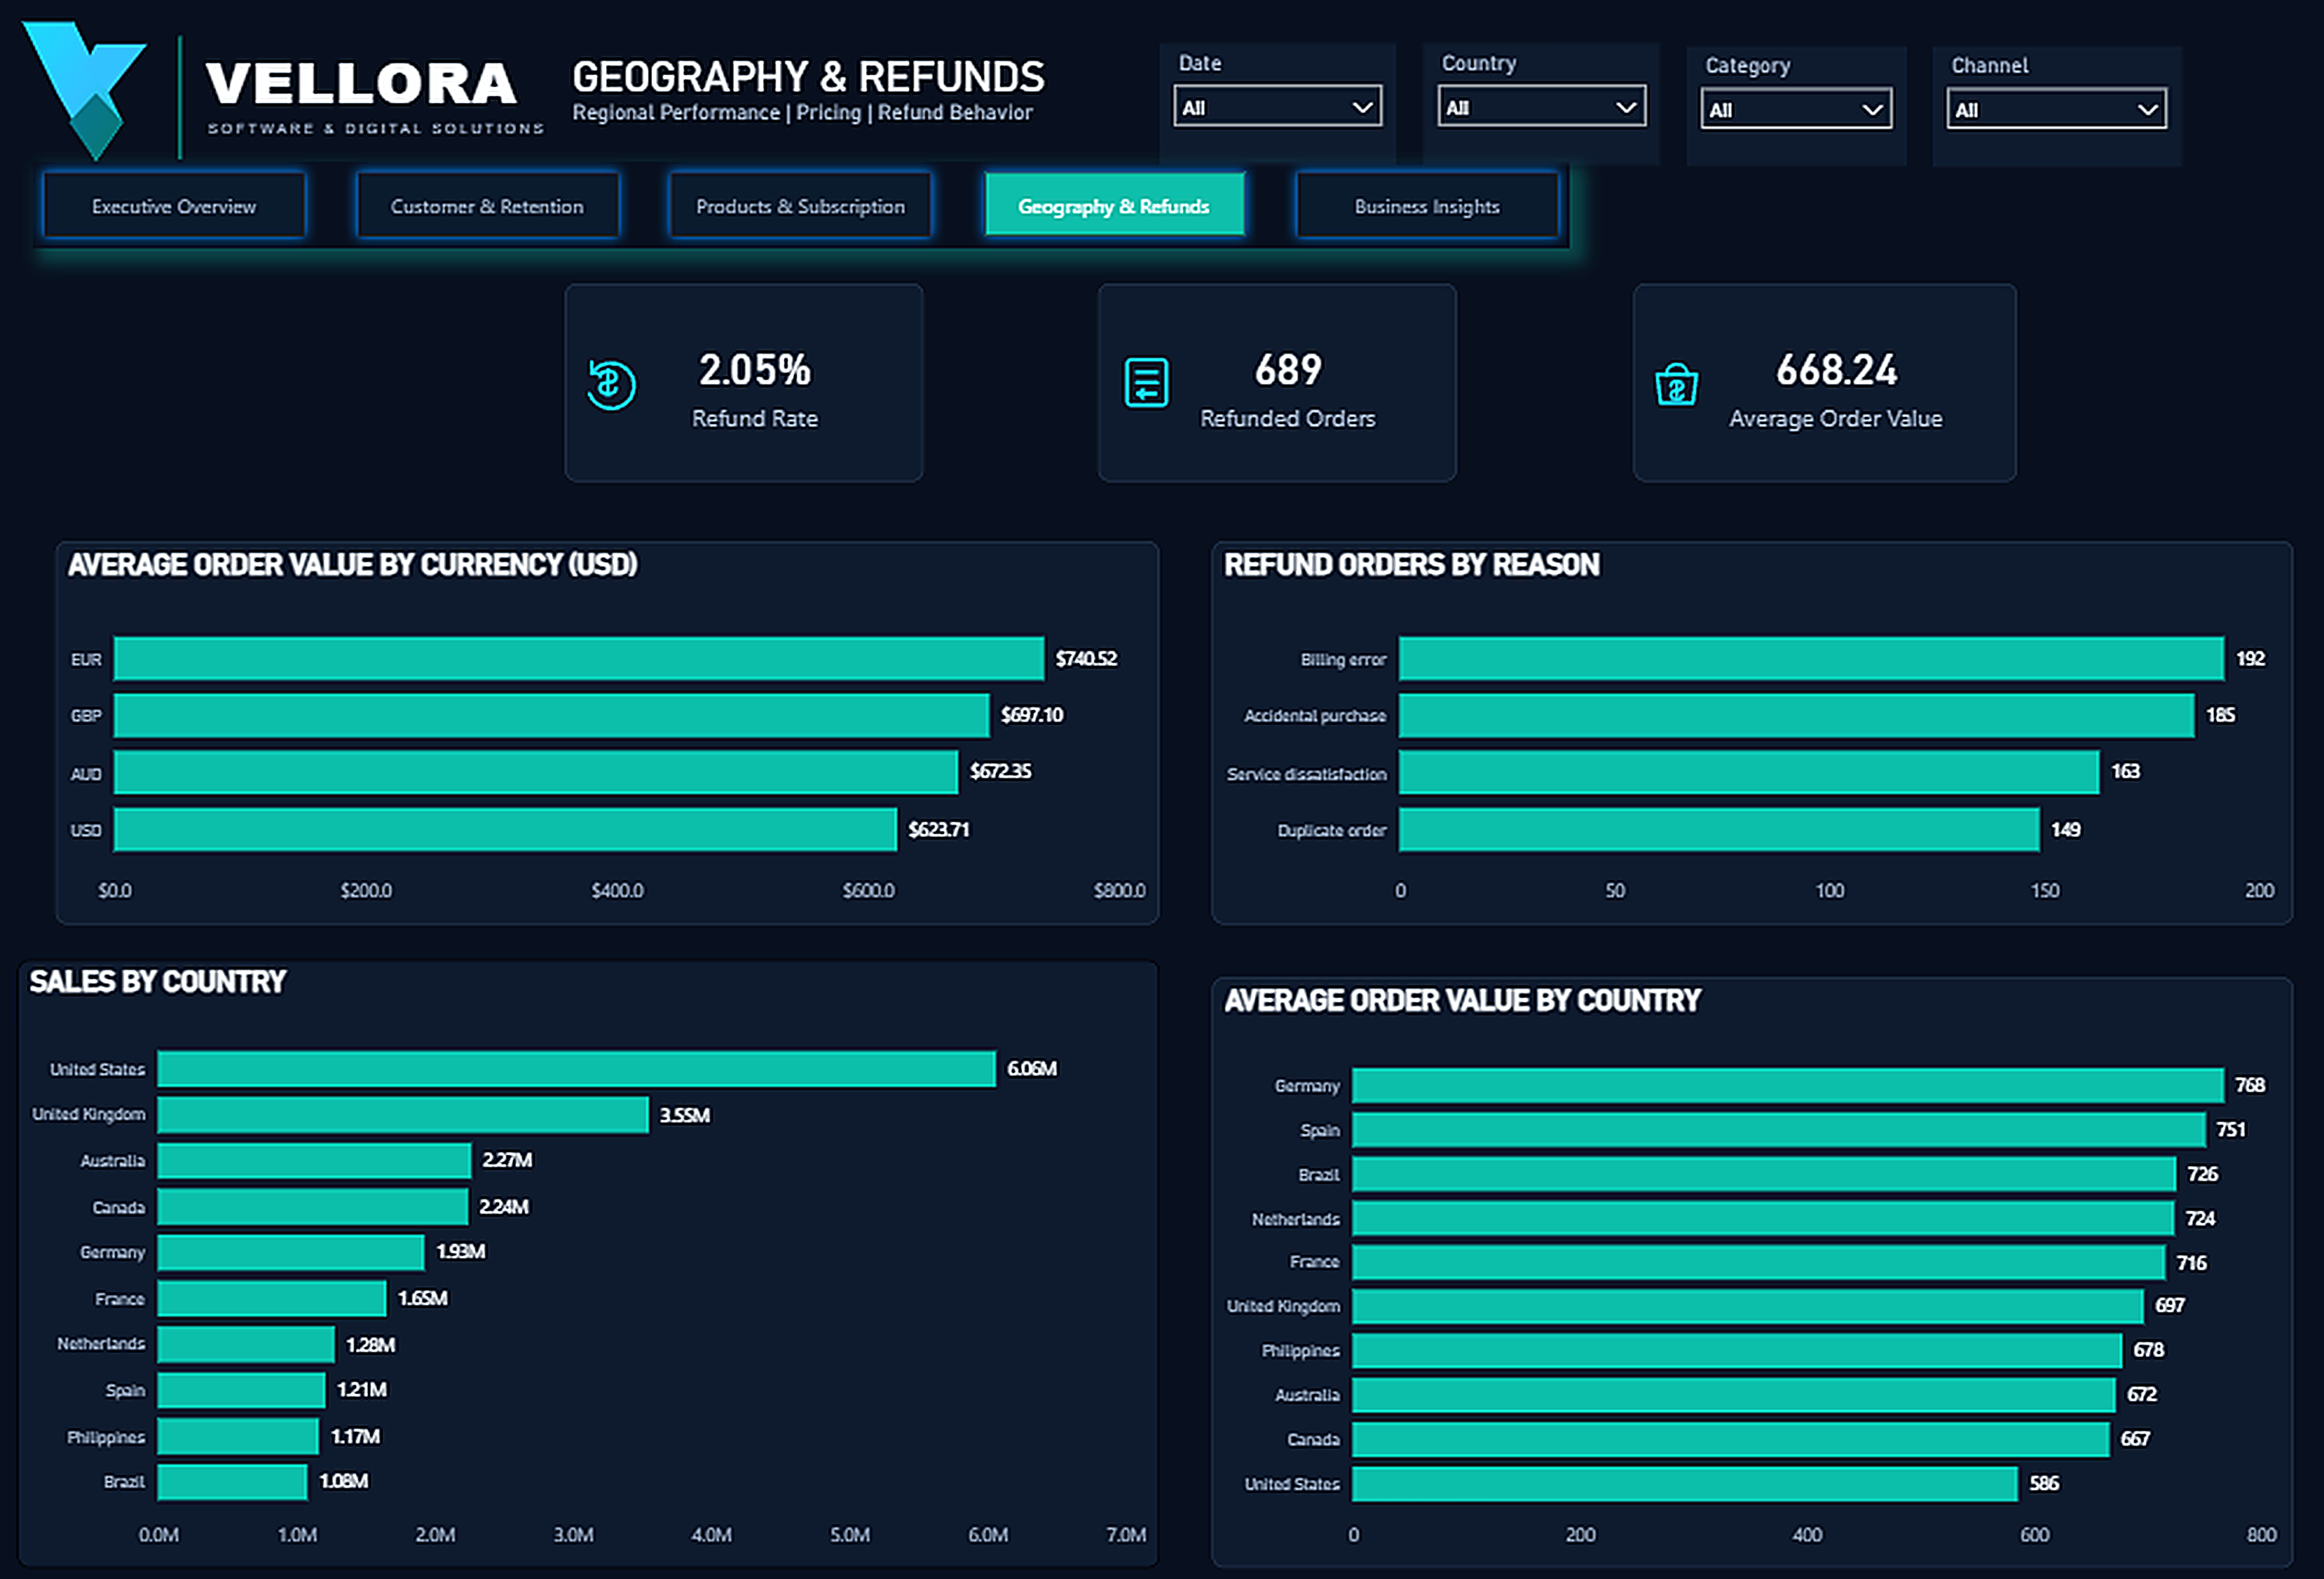

The page's visual inventory and layout, read from the dashboard file:
{"tool":"powerbi","page":{"name":"Geography & Refunds","canvas":[1600,1100],"ordinal":3},"visuals":[{"type":"card","fields":{"Values":["_Measures.Refunded Orders"]},"box":[758.3,200,245,135],"z":0},{"type":"card","fields":{"Values":["_Measures.Refund Rate"]},"box":[393.3,200,245,135],"z":1000},{"type":"card","fields":{"Values":["_Measures.Average Order Value"]},"box":[1123.3,200,261.7,135],"z":2000},{"type":"clusteredBarChart","title":"AVERAGE ORDER VALUE BY COUNTRY","fields":{"Category":["Events_updated.country"],"Y":["_Measures.Average Order Value"]},"box":[835,673.3,738.3,403.3],"z":5000},{"type":"clusteredBarChart","title":"REFUND ORDERS BY REASON","fields":{"Category":["Events_updated.refund_reason"],"Y":["_Measures.Refunded Orders"]},"box":[835,376.7,738.3,261.7],"z":6000},{"type":"clusteredBarChart","title":"SALES BY COUNTRY","fields":{"Y":["_Measures.Total Sales"],"Category":["Events_updated.country"]},"box":[20,661.7,780,415],"z":7000},{"type":"slicer","fields":{"Values":["Dim_Date.Date"]},"box":[800,35.7,161.7,83.3],"z":8000},{"type":"slicer","fields":{"Values":["Events_updated.country"]},"box":[979.6,35.7,161.7,83.3],"z":9000},{"type":"slicer","title":"Channel","fields":{"Values":["Events_updated.channel"]},"box":[1327.1,37.1,170,82.5],"z":10000},{"type":"slicer","fields":{"Values":["Products_final__3.category"]},"box":[1159.2,37.1,150,81.7],"z":11000},{"type":"image","box":[0,0,468.3,146.7],"z":12000},{"type":"textbox","box":[393.3,35,360,75],"z":13000},{"type":"image","box":[398.3,230,50,75],"z":14000},{"type":"image","box":[766.7,230,50,75],"z":15000},{"type":"image","box":[1128.3,230,50,75],"z":18000},{"type":"clusteredBarChart","title":"AVERAGE ORDER VALUE BY CURRENCY (USD)","fields":{"Category":["Events_updated.currency"],"Y":["_Measures.Average Order Value"]},"box":[46.7,376.7,753.3,261.7],"z":36001},{"type":"pageNavigator","box":[30,116.7,1050,60],"z":36002}]}

Visuals, with their boxes in screenshot pixels (x1, y1, x2, y2), scaled from the page's 1600x1100 canvas onto the 2324x1579 screenshot:
card - _Measures.Refunded Orders: <box>1101,287,1457,481</box>
card - _Measures.Refund Rate: <box>572,287,927,481</box>
card - _Measures.Average Order Value: <box>1631,287,2012,481</box>
"AVERAGE ORDER VALUE BY COUNTRY" clusteredBarChart: <box>1213,967,2285,1545</box>
"REFUND ORDERS BY REASON" clusteredBarChart: <box>1213,540,2285,916</box>
"SALES BY COUNTRY" clusteredBarChart: <box>29,950,1162,1545</box>
slicer - Dim_Date.Date: <box>1162,52,1397,171</box>
slicer - Events_updated.country: <box>1423,52,1658,171</box>
"Channel" slicer: <box>1927,53,2175,172</box>
slicer - Products_final__3.category: <box>1684,53,1902,170</box>
image: <box>0,0,680,211</box>
textbox: <box>572,50,1094,158</box>
image: <box>579,330,651,438</box>
image: <box>1114,330,1186,438</box>
image: <box>1639,330,1712,438</box>
"AVERAGE ORDER VALUE BY CURRENCY (USD)" clusteredBarChart: <box>68,540,1162,916</box>
pageNavigator: <box>44,168,1569,254</box>
